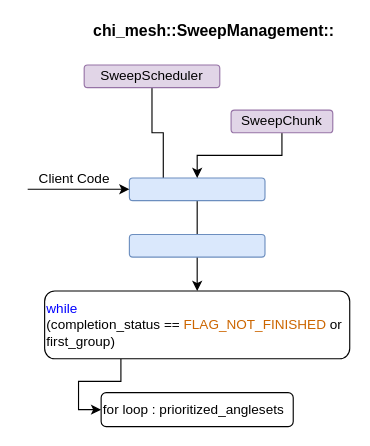
The diagram is 370 pixels wide and 446 high, and some of its shapes have lost their labels. Here are the shapes that lost their labels. From the top down, the box of each, then its label:
(128, 177, 265, 201): Sweep()
(128, 233, 265, 257): ScheduleAlgoDOG()
